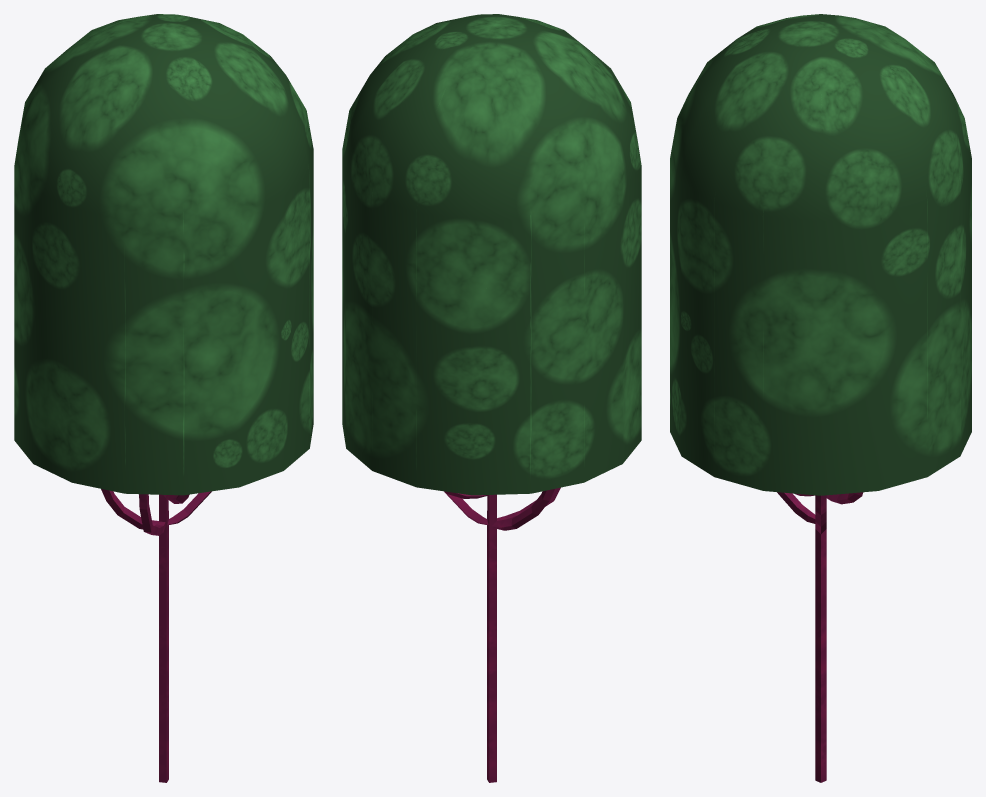
The model's file is Tree1_2.fbx.
3 renders of one model, left to right at view 1: azimuth 30°, elevation 25°; view 2: azimuth 150°, elevation 25°; view 3: azimuth 270°, elevation 25°, orthographic.
Visible parts, largest first — view 1: Tree1; view 2: Tree1; view 3: Tree1.
Part boxes in pixels (box(x1,y1,x2,y2)): Tree1: box(14, 14, 313, 782); Tree1: box(342, 14, 641, 782); Tree1: box(670, 14, 971, 782).
Bounding box in the file's own units: 200 × 550 × 200.
